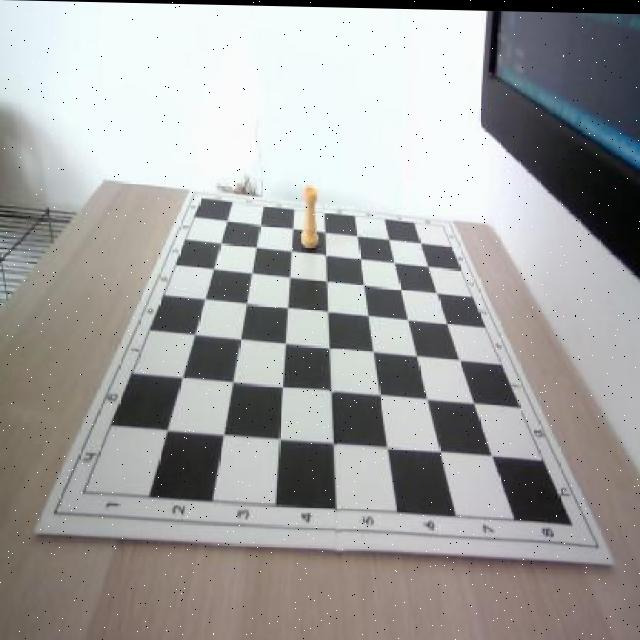white-queen: (298, 183, 322, 245)
